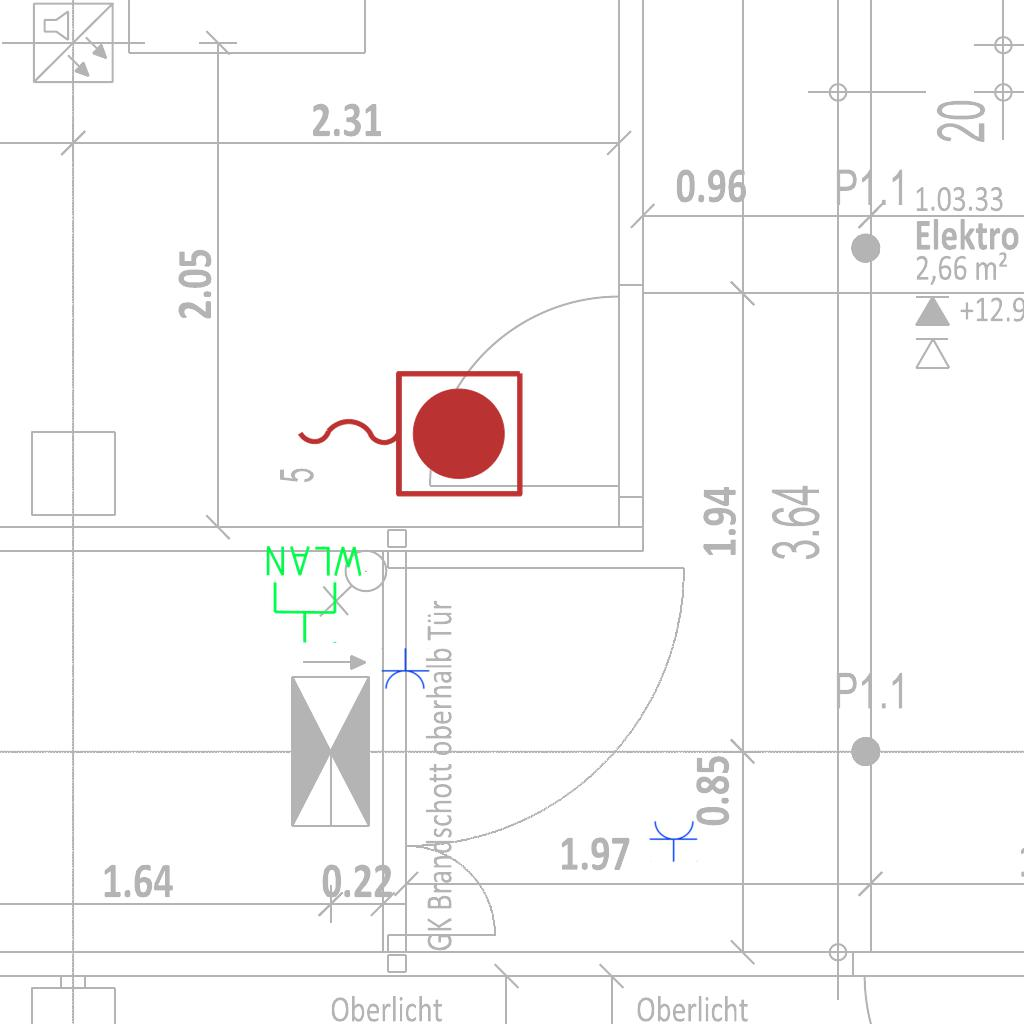Schukosteckdose_einfach: (380, 648, 430, 691), (649, 819, 699, 862)
WLAN: (262, 542, 367, 646)
Zugtaster: (287, 360, 531, 504)
